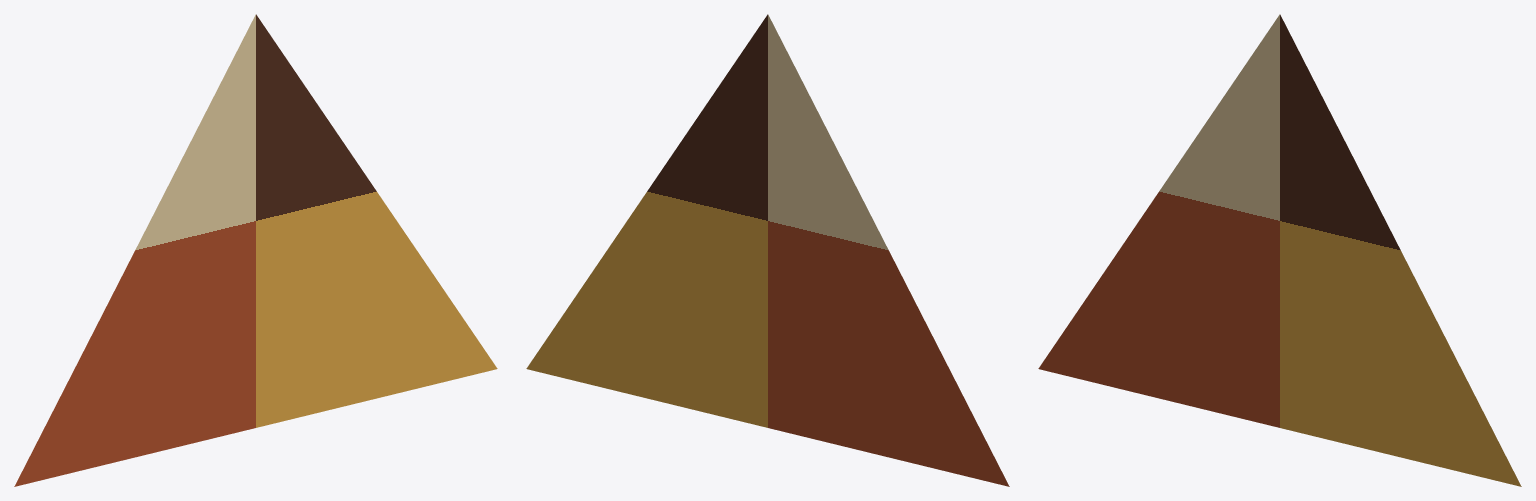
Rendered from storybook_animal.gltf.
3 renders of one model, left to right at view 1: azimuth 30°, elevation 25°; view 2: azimuth 150°, elevation 25°; view 3: azimuth 330°, elevation 25°, orthographic.
Visible parts, largest first — view 1: AnimalMarker; view 2: AnimalMarker; view 3: AnimalMarker.
Boxes of the visible parts, x1=… form: AnimalMarker: x1=14, y1=14, x2=497, y2=486; AnimalMarker: x1=526, y1=14, x2=1009, y2=486; AnimalMarker: x1=1038, y1=14, x2=1521, y2=486.
Size of the model in its own units: 1.1 by 0.9 by 0.
Materials: 1 (1 with a texture image).
